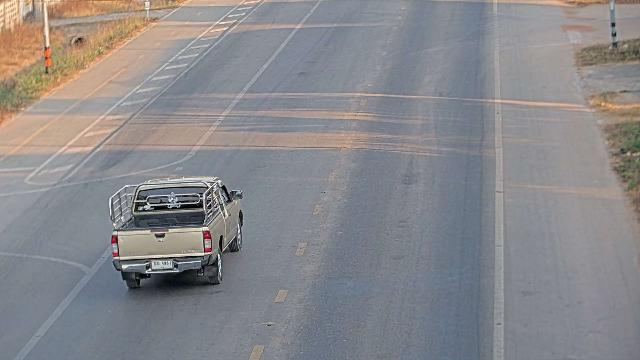pickup-truck: (107, 175, 244, 289)
